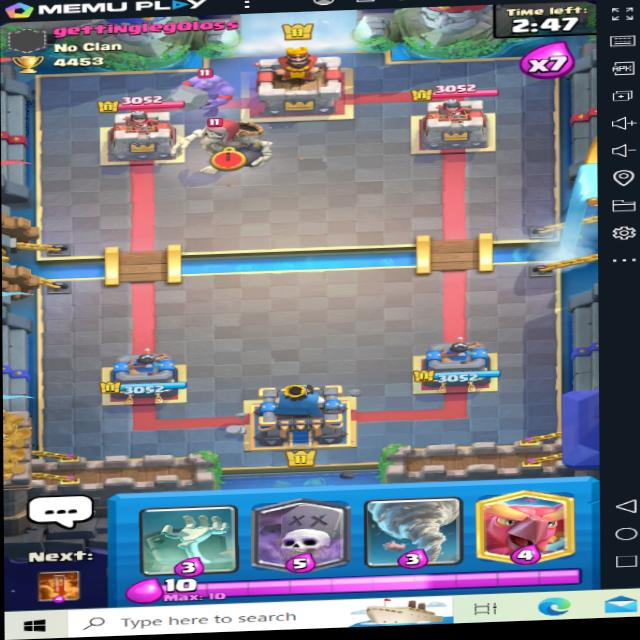bowler: (165, 64, 238, 110)
giant-skeleton: (171, 103, 284, 179)
